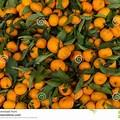orange: (83, 4, 120, 37), (91, 68, 120, 105), (65, 54, 96, 72), (57, 83, 79, 108), (94, 47, 120, 62), (11, 83, 31, 96), (32, 35, 46, 50), (48, 35, 60, 52), (3, 74, 15, 89), (3, 40, 19, 51), (49, 14, 59, 24)
